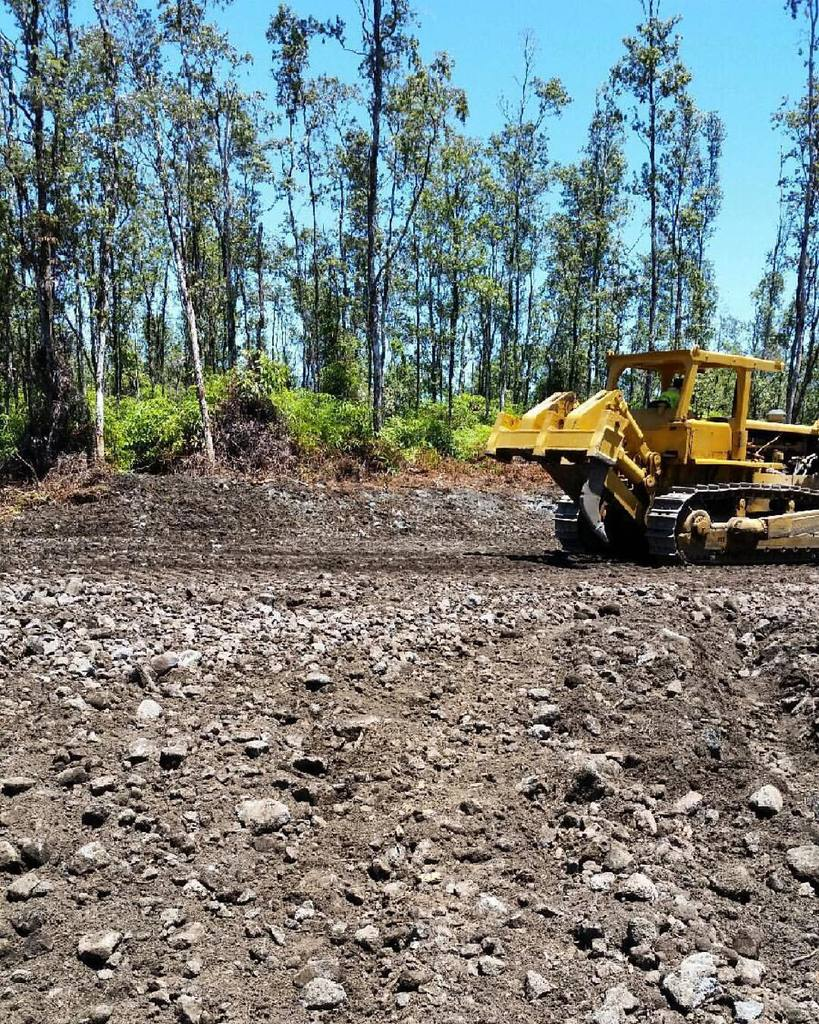Tree: (0, 0, 819, 486)
